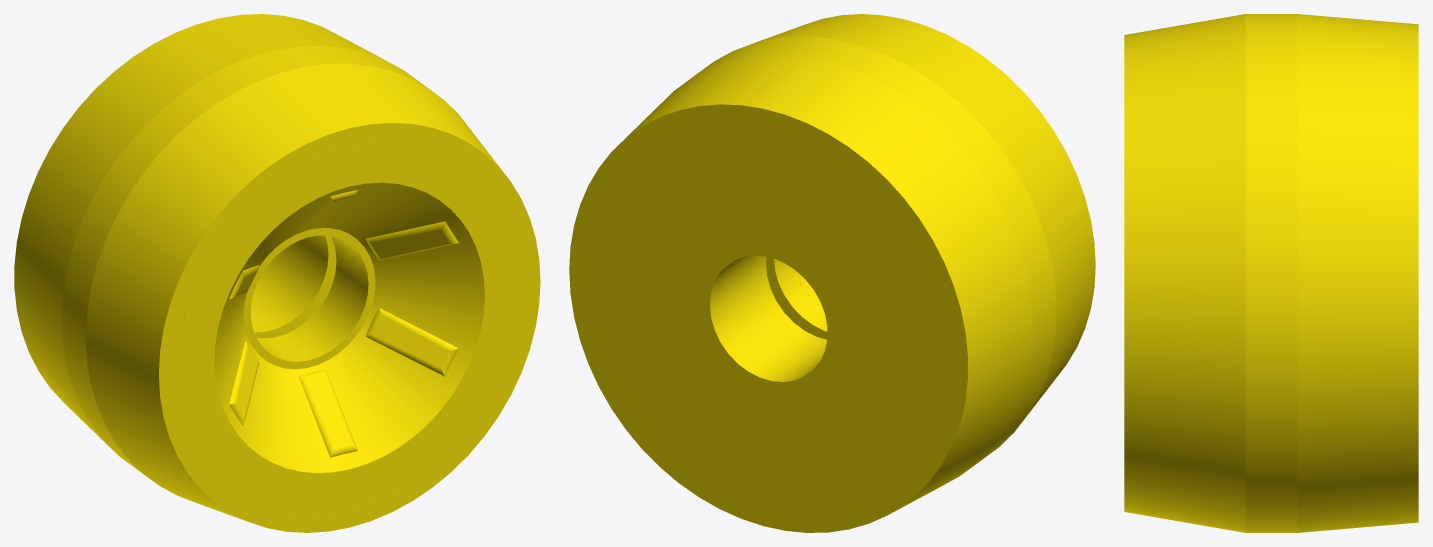
File: wheel_x5.dae
3 renders of one model, left to right at view 1: azimuth 30°, elevation 25°; view 2: azimuth 150°, elevation 25°; view 3: azimuth 270°, elevation 25°, orthographic. The views are drawn at different scales.
Visible parts, largest first — view 1: Body2, Body1, Body3; view 2: Body3, Body2; view 3: Body2.
Boxes of the visible parts, x1=… form: Body2: x1=14, y1=14, x2=540, y2=532; Body1: x1=176, y1=142, x2=522, y2=513; Body3: x1=251, y1=192, x2=493, y2=350; Body3: x1=569, y1=104, x2=967, y2=532; Body2: x1=569, y1=14, x2=1095, y2=532; Body2: x1=1124, y1=14, x2=1418, y2=532.
Bounding box in the file's own units: 0.15 × 0.085 × 0.1498.
